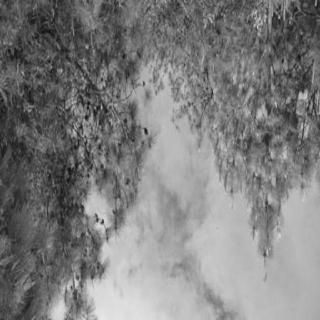Fire: (63, 68, 189, 272)
